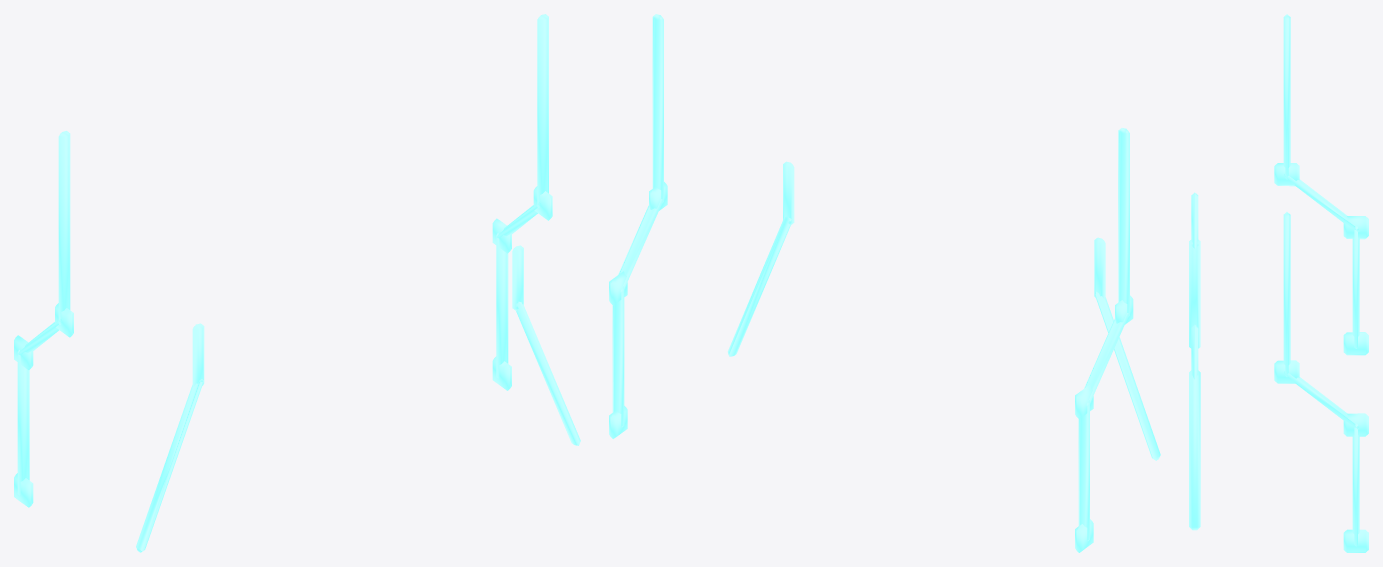
File: Estela_Torso_Neon.fbx
3 views of the same model, side by side, from view 1: azimuth 30°, elevation 25°; view 2: azimuth 150°, elevation 25°; view 3: azimuth 270°, elevation 25° (orthographic). The views are drawn at different scales.
Visible parts, largest first — view 1: Estela_Torso_Neon; view 2: Estela_Torso_Neon; view 3: Estela_Torso_Neon.
Boxes of the visible parts, left/top/right/bottom form: Estela_Torso_Neon: left=14, top=14, right=580, bottom=552; Estela_Torso_Neon: left=609, top=14, right=1160, bottom=552; Estela_Torso_Neon: left=1189, top=14, right=1368, bottom=552.
Size of the model in its own units: 2.09 by 1.64 by 0.7826.
